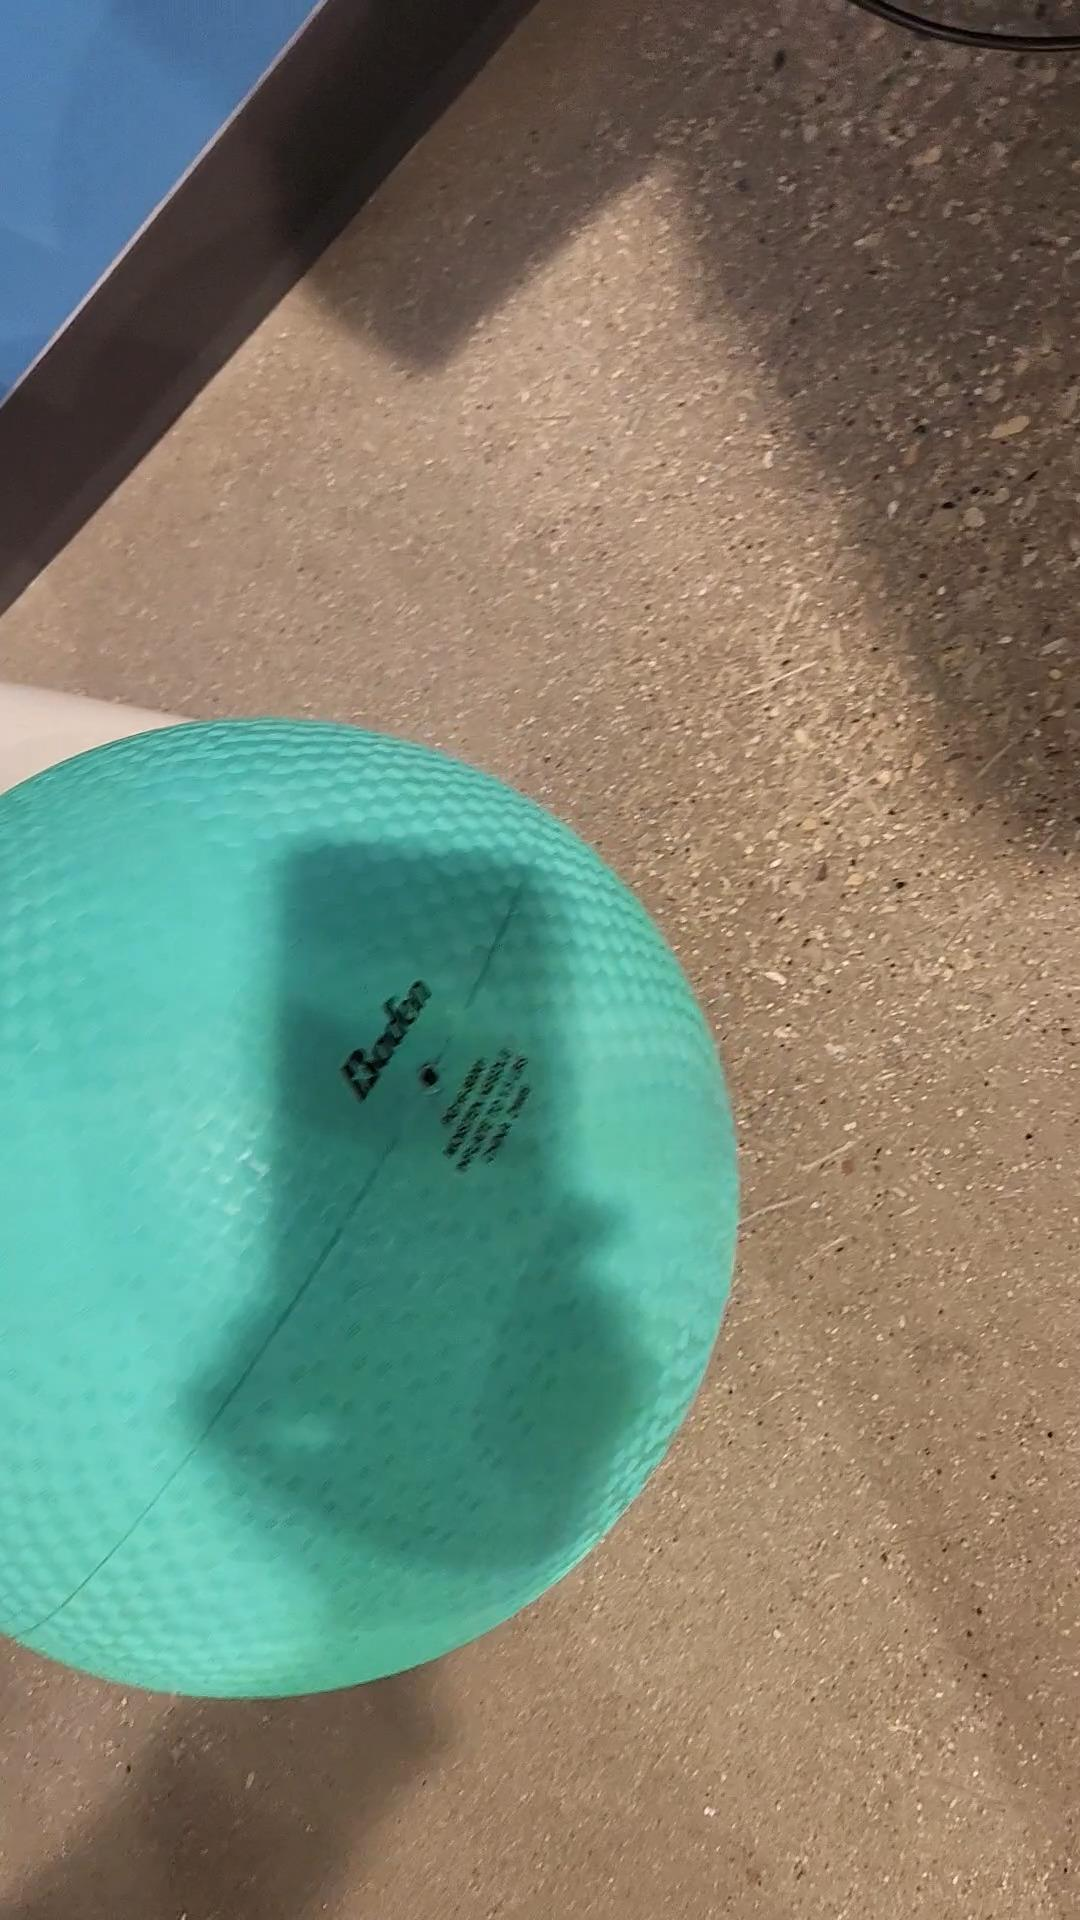algae: (0, 717, 737, 1700)
